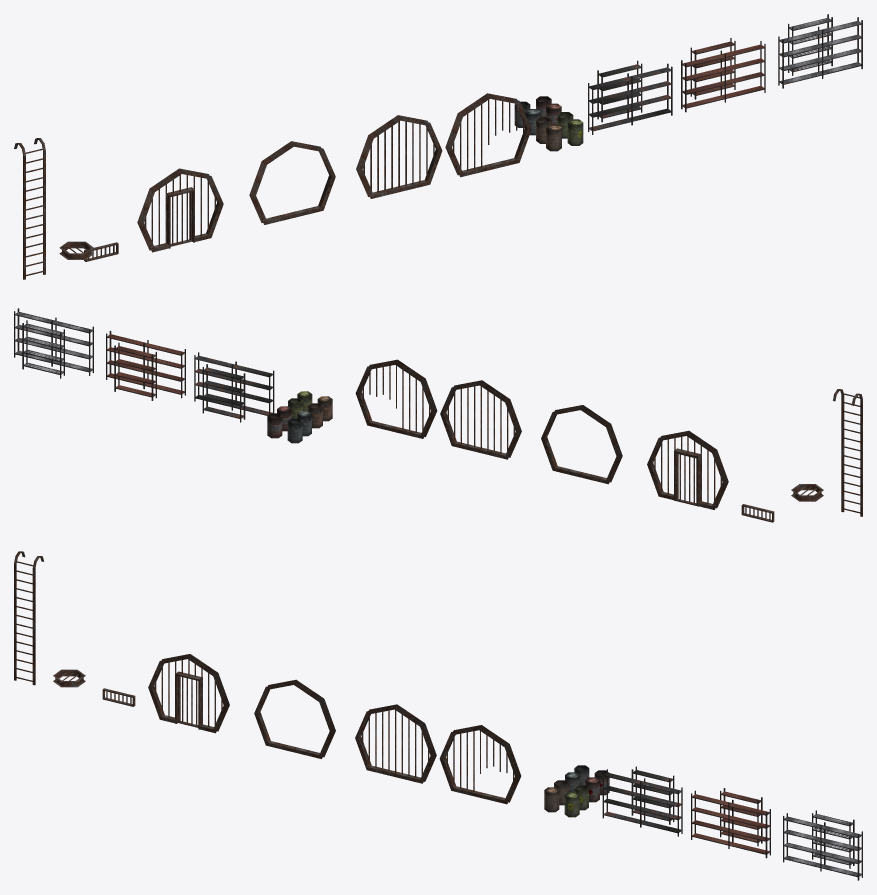
Rendered from MetalProps.fbx.
3 renders of one model, top to bottom at view 1: azimuth 30°, elevation 25°; view 2: azimuth 150°, elevation 25°; view 3: azimuth 330°, elevation 25°, orthographic. The views are drawn at different scales.
Parts seen in each view (by area): view 1: Props_Grate, Props_Grate_Door, Props_Grate_Damaged, Prop_Shelves_02_A, Prop_Shelves_01_A, Prop_Shelves_03_A, Props_Grate_Empty, Props_Ladder, Prop_Shelves_02_B, Prop_Shelves_01_B, Prop_Shelves_03_B, Props_IronDoor; view 2: Props_Grate, Props_Grate_Door, Props_Grate_Damaged, Prop_Shelves_03_A, Prop_Shelves_02_A, Prop_Shelves_01_A, Props_Grate_Empty, Props_Ladder, Prop_Shelves_01_B, Prop_Shelves_02_B, Prop_Shelves_03_B, Props_IronDoor (+1 smaller); view 3: Props_Grate, Props_Grate_Door, Props_Grate_Damaged, Prop_Shelves_02_A, Prop_Shelves_03_A, Prop_Shelves_01_A, Props_Grate_Empty, Props_Ladder, Prop_Shelves_01_B, Prop_Shelves_02_B, Prop_Shelves_03_B.
Boxes of the visible parts, left/top/right/bottom form: Props_Grate: left=356, top=115, right=442, bottom=198; Props_Grate_Door: left=137, top=168, right=223, bottom=252; Props_Grate_Damaged: left=445, top=93, right=531, bottom=177; Prop_Shelves_02_A: left=681, top=41, right=765, bottom=112; Prop_Shelves_01_A: left=588, top=63, right=672, bottom=134; Prop_Shelves_03_A: left=778, top=17, right=862, bottom=88; Props_Grate_Empty: left=249, top=141, right=335, bottom=224; Props_Ladder: left=14, top=138, right=45, bottom=279; Prop_Shelves_02_B: left=690, top=38, right=735, bottom=99; Prop_Shelves_01_B: left=597, top=60, right=642, bottom=122; Prop_Shelves_03_B: left=788, top=14, right=832, bottom=75; Props_IronDoor: left=170, top=192, right=191, bottom=246; Props_Grate: left=440, top=380, right=521, bottom=459; Props_Grate_Door: left=647, top=430, right=728, bottom=509; Props_Grate_Damaged: left=355, top=359, right=437, bottom=438; Prop_Shelves_03_A: left=14, top=308, right=93, bottom=375; Prop_Shelves_02_A: left=106, top=330, right=185, bottom=398; Prop_Shelves_01_A: left=194, top=352, right=274, bottom=415; Props_Grate_Empty: left=541, top=405, right=622, bottom=484; Props_Ladder: left=833, top=389, right=862, bottom=516; Prop_Shelves_01_B: left=202, top=364, right=245, bottom=422; Prop_Shelves_02_B: left=114, top=342, right=156, bottom=400; Prop_Shelves_03_B: left=22, top=320, right=64, bottom=378; Props_IronDoor: left=675, top=453, right=696, bottom=505; Props_Grate: left=355, top=704, right=436, bottom=783; Props_Grate_Door: left=148, top=654, right=229, bottom=733; Props_Grate_Damaged: left=439, top=725, right=521, bottom=804; Prop_Shelves_02_A: left=691, top=790, right=770, bottom=858; Prop_Shelves_03_A: left=783, top=813, right=862, bottom=880; Prop_Shelves_01_A: left=602, top=769, right=682, bottom=836; Props_Grate_Empty: left=254, top=679, right=335, bottom=758; Props_Ladder: left=14, top=551, right=43, bottom=685; Prop_Shelves_01_B: left=631, top=766, right=674, bottom=824; Prop_Shelves_02_B: left=720, top=788, right=762, bottom=846; Prop_Shelves_03_B: left=812, top=810, right=854, bottom=868.
Size of the model in its own units: 4379 by 740 by 532.
